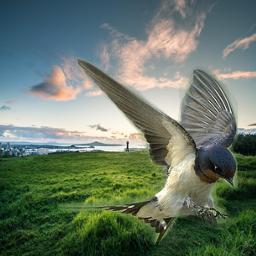Swallow: (58, 54, 238, 245)
